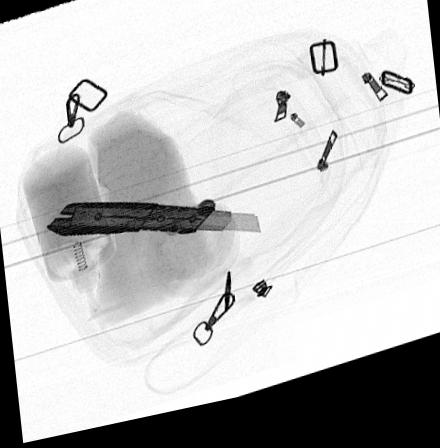Knife: (45, 204, 261, 243)
